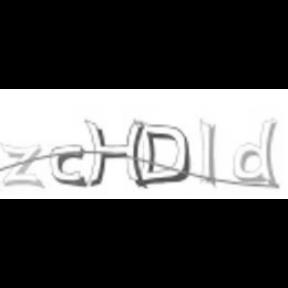D: (140, 122, 192, 186)
H: (84, 117, 146, 189)
I: (198, 117, 220, 187)
c: (48, 142, 88, 188)
d: (230, 115, 280, 188)
z: (2, 142, 44, 188)
